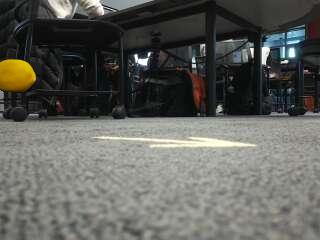lemon: (1, 60, 36, 92)
